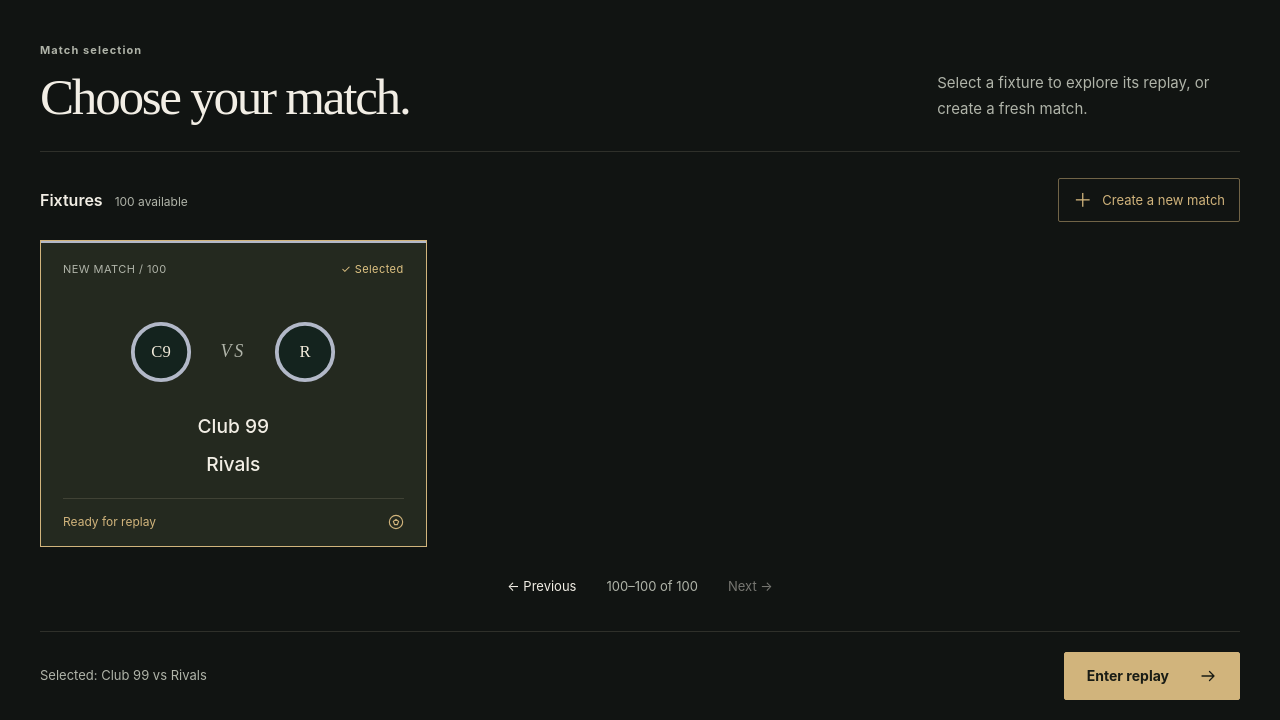
Test case: new match creation in the fixture lobby › bounds a 100-match catalog to three visible tiles without a dropdown
This screenshot has width=1280, height=720.
Expected: the text "100 available" is shown, [115,193,188,211]
Expected: the button with aria-label "Select Club 99 vs Rivals · Match 100" is shown, [40,240,427,547]
Click the button with aria-label "Previous fixtures": (542, 587) [499,565,584,609]
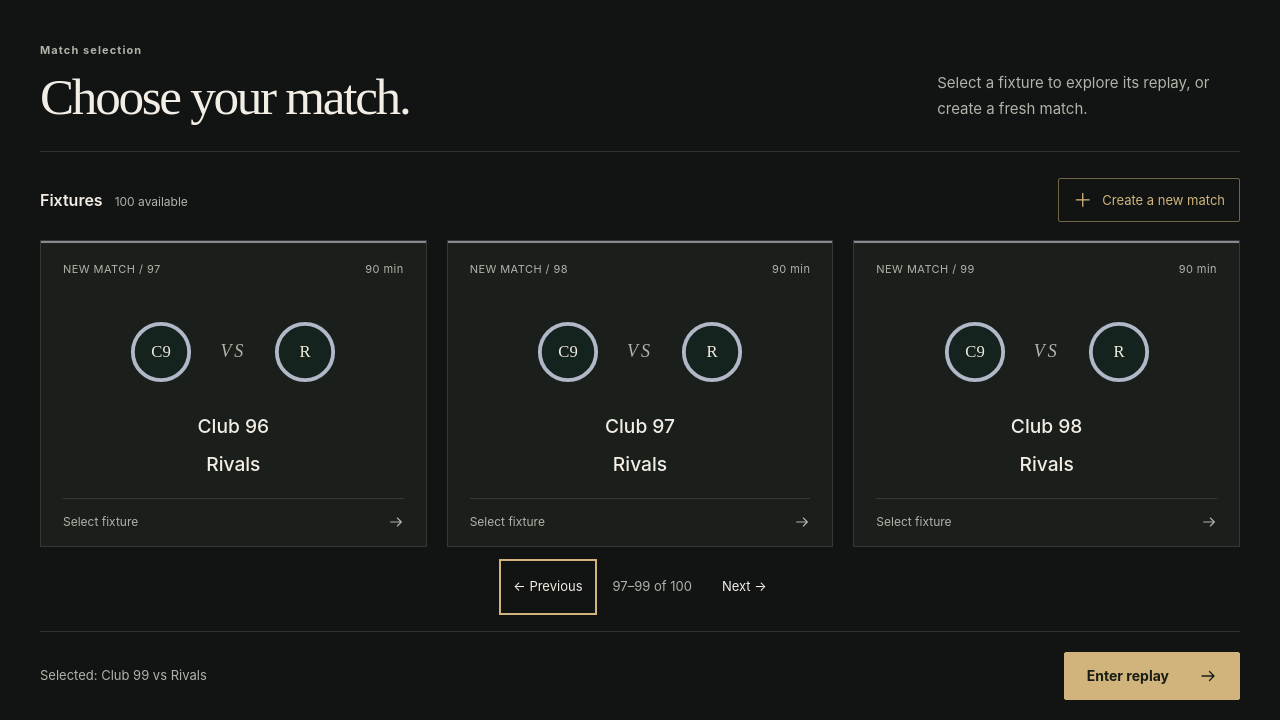
Expected: the number of buttons named "Select Club" is 3, [40,240,427,547]; [447,240,833,547]; [853,240,1240,547]
